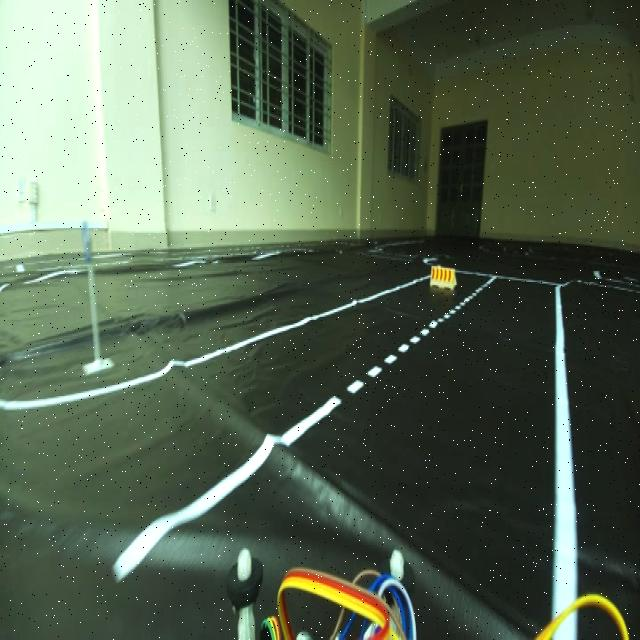onewayroad: (80, 220, 96, 271)
roadblock: (426, 257, 460, 293)
